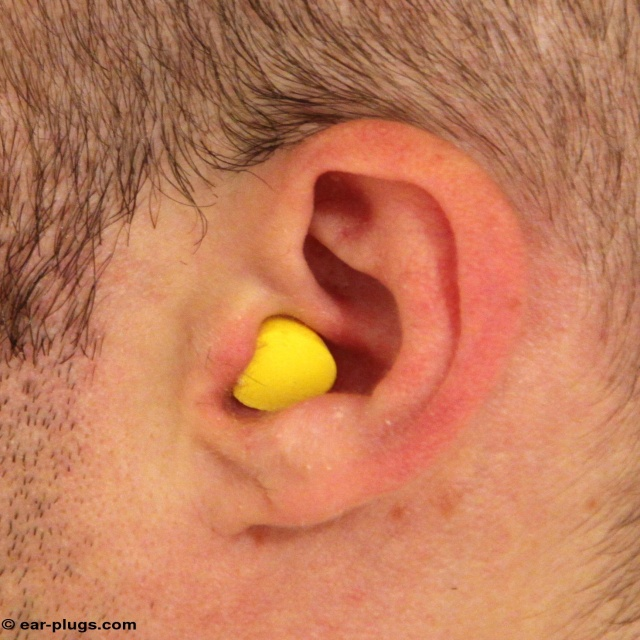Hearing_Protection: (248, 325, 335, 399)
